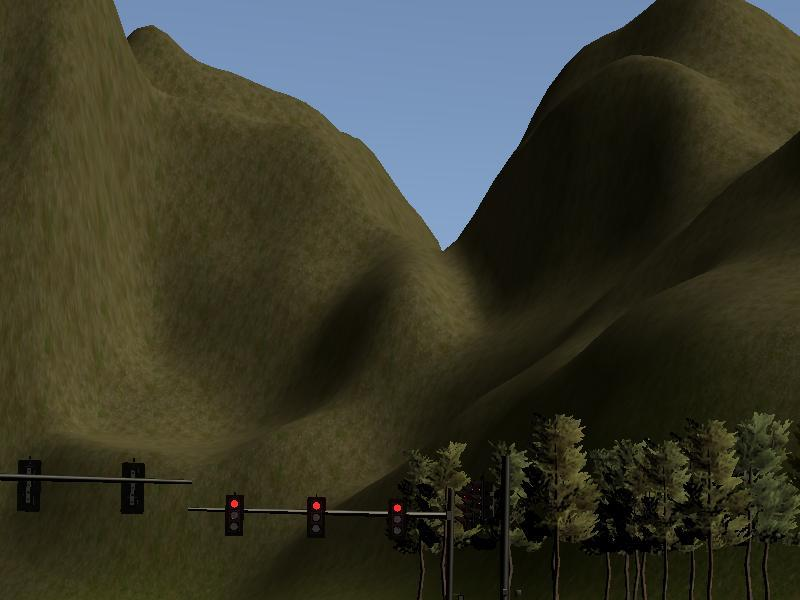Red: (225, 494, 242, 536), (309, 497, 326, 539), (390, 500, 405, 541)
